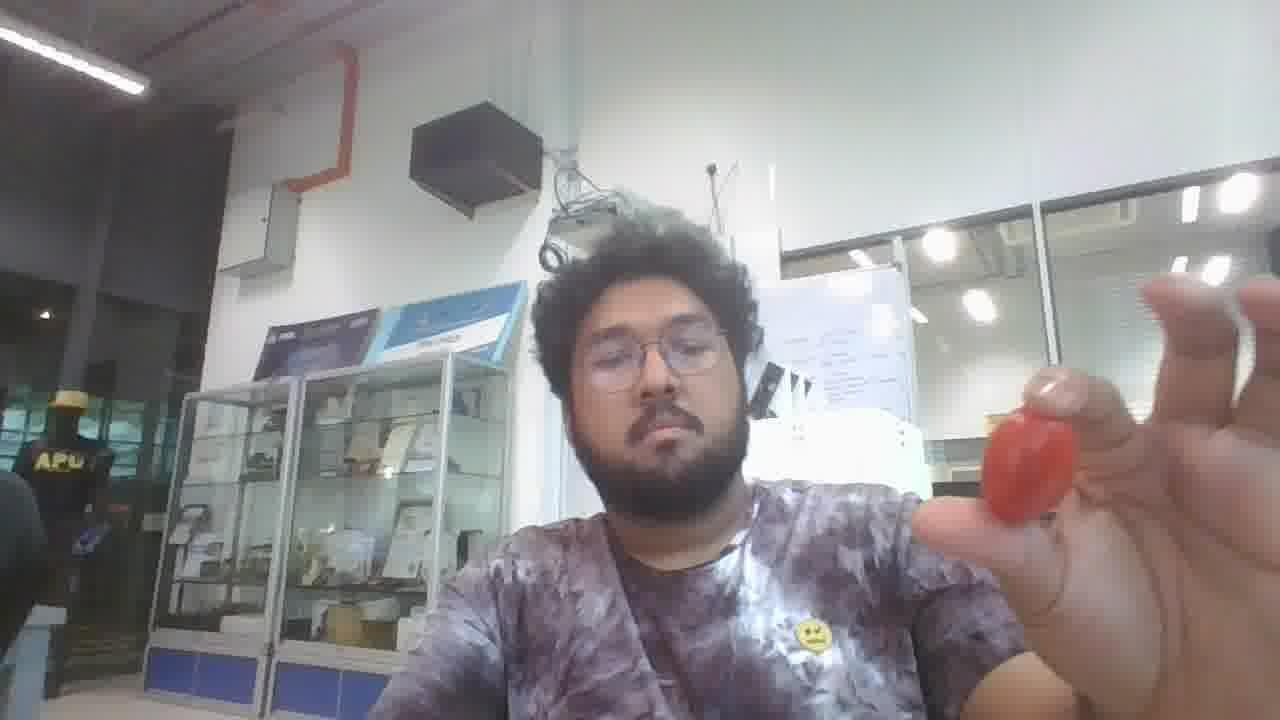red_cherry_tomato: (982, 409, 1076, 525)
